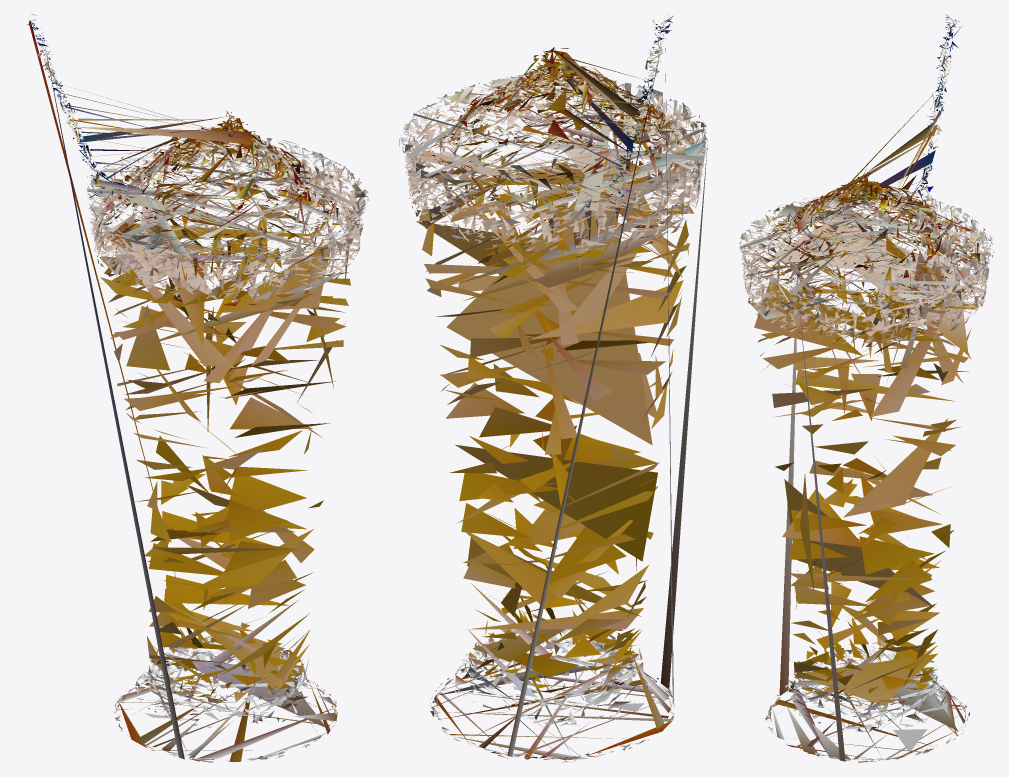
File: milkshake_chocolate_with_straw_52199.glb
3 views of the same model, side by side, from view 1: azimuth 30°, elevation 25°; view 2: azimuth 150°, elevation 25°; view 3: azimuth 270°, elevation 25° (orthographic). The views are drawn at different scales.
Parts seen in each view (by area): view 1: Ref; view 2: Ref; view 3: Ref.
Boxes of the visible parts, x1=… form: Ref: x1=27, y1=14, x2=369, y2=762; Ref: x1=398, y1=14, x2=708, y2=762; Ref: x1=739, y1=14, x2=994, y2=762.
Bounding box in the file's own units: 0.7563 × 1.8 × 0.6553.
